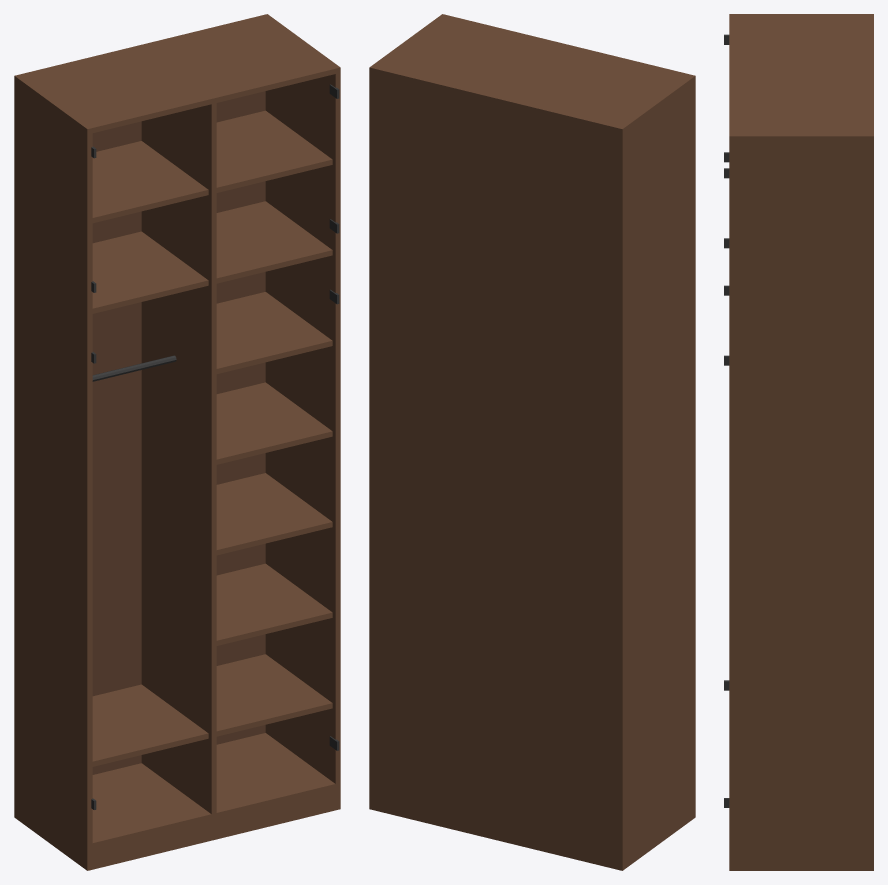
File: Wardrobe7_C3.fbx
The picture shows the model from 3 angles, left to right: view 1: azimuth 30°, elevation 25°; view 2: azimuth 150°, elevation 25°; view 3: azimuth 270°, elevation 25°; orthographic projection.
Parts seen in each view (by area): view 1: Wardrobe7_C3; view 2: Wardrobe7_C3; view 3: Wardrobe7_C3.
Part boxes in pixels (x1,y1,x2,y2): Wardrobe7_C3: (14, 14, 340, 870); Wardrobe7_C3: (369, 14, 695, 870); Wardrobe7_C3: (724, 14, 873, 870).
Bounding box in the file's own units: 100 × 280 × 51.79.
